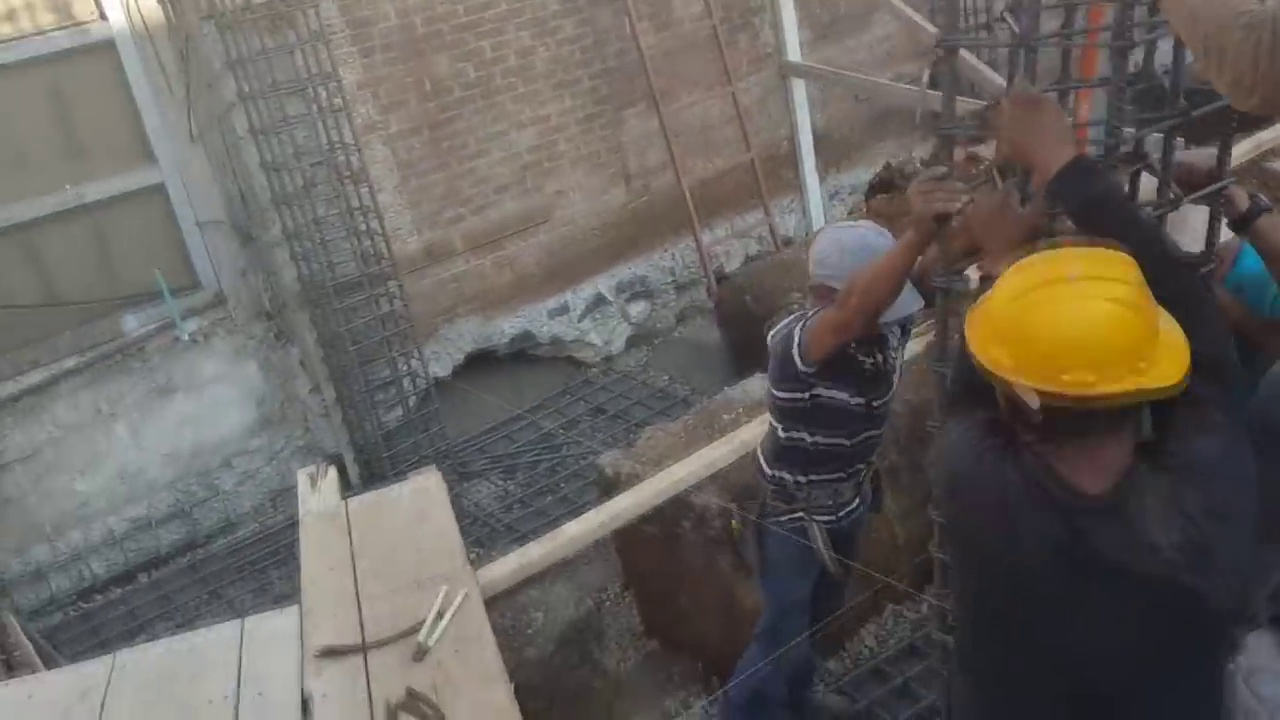helmet: (980, 233, 1206, 410)
helmet-off: (801, 220, 913, 330)
helmet-on: (951, 237, 1201, 500)
person: (910, 82, 1280, 720), (709, 199, 938, 717)
